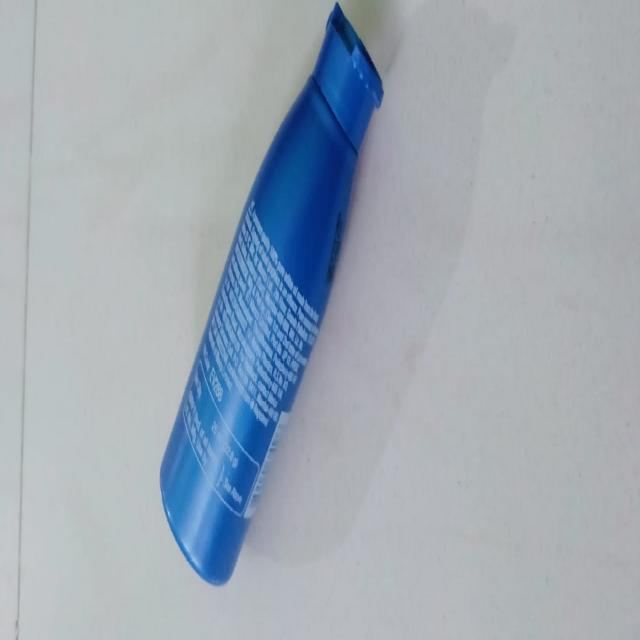oil: (158, 9, 384, 591)
